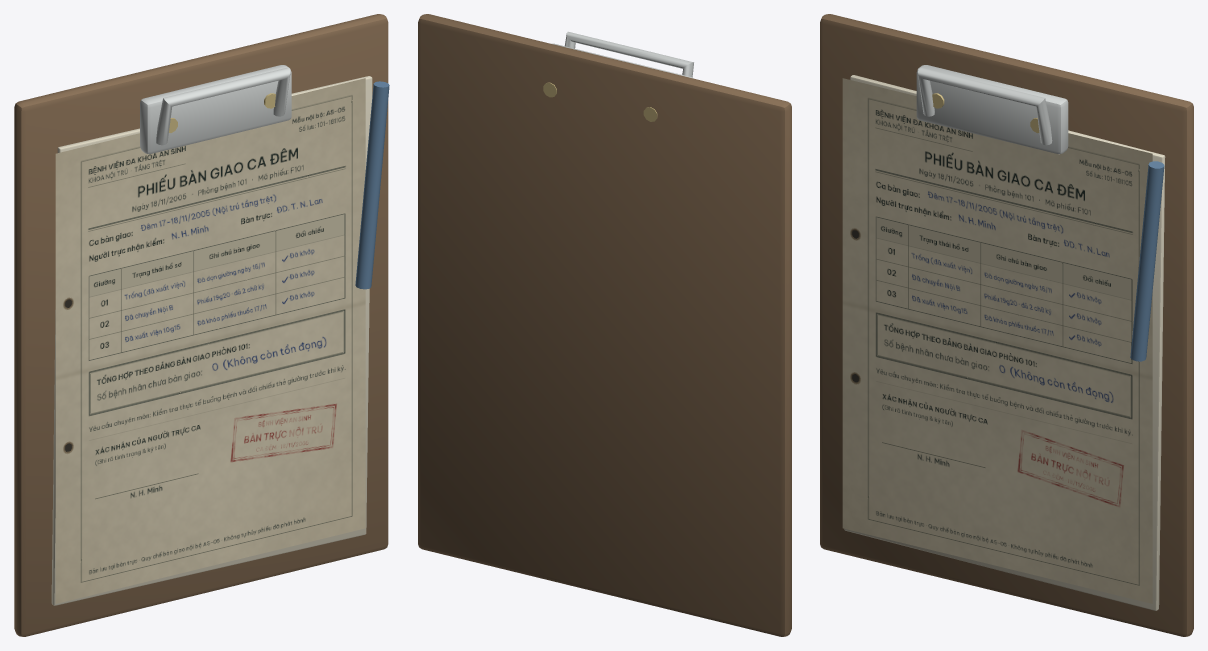
Rendered from CTCC_PROP_ClipboardF101.fbx.
3 renders of one model, left to right at view 1: azimuth 30°, elevation 25°; view 2: azimuth 150°, elevation 25°; view 3: azimuth 330°, elevation 25°, orthographic.
Visible parts, largest first — view 1: CTCC_PROP_ClipboardF101; view 2: CTCC_PROP_ClipboardF101; view 3: CTCC_PROP_ClipboardF101.
Part boxes in pixels (box(x1,y1,x2,y2)): CTCC_PROP_ClipboardF101: box(14, 14, 389, 636); CTCC_PROP_ClipboardF101: box(418, 14, 791, 636); CTCC_PROP_ClipboardF101: box(820, 14, 1193, 636).
Bounding box in the file's own units: 0.265 × 0.365 × 0.0409.
